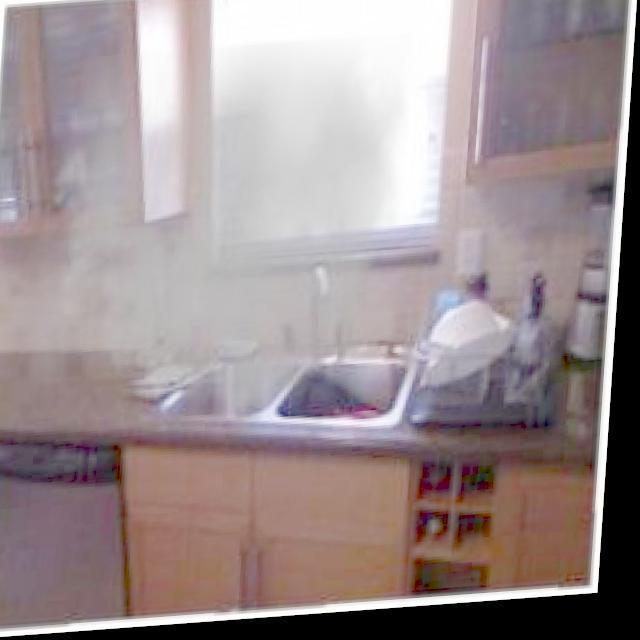Smoke: (2, 26, 422, 453)
